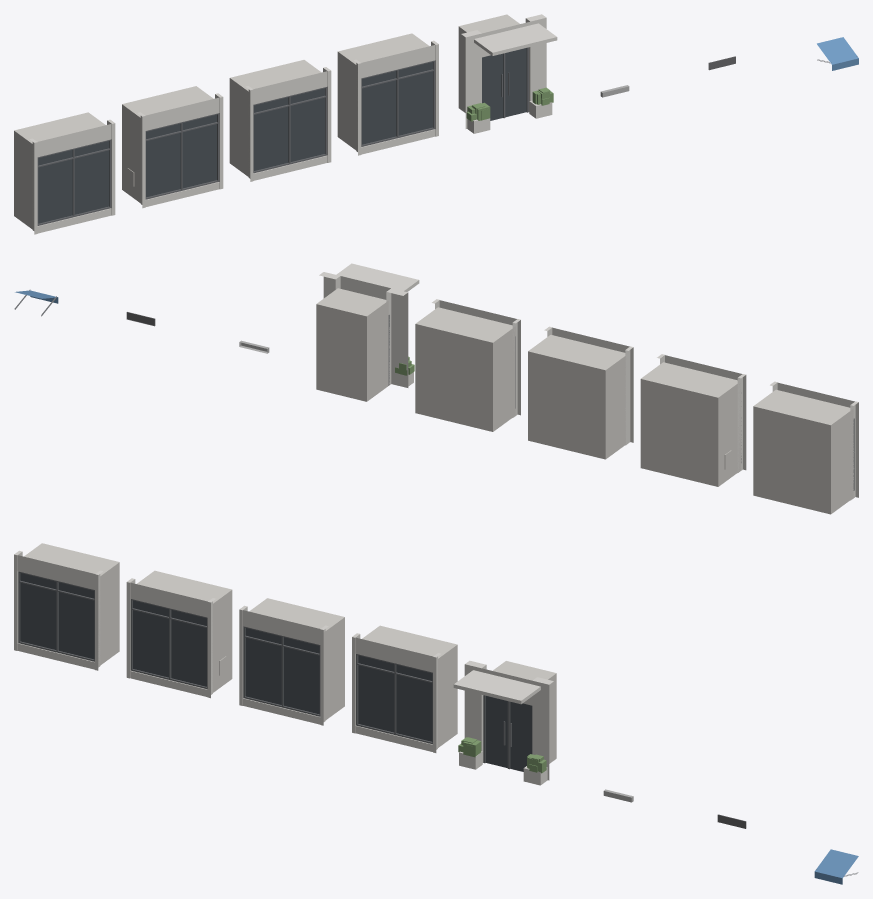
File: terreo-lojas-orla.glb
The picture shows the model from 3 angles, top to bottom: view 1: azimuth 30°, elevation 25°; view 2: azimuth 150°, elevation 25°; view 3: azimuth 330°, elevation 25°; orthographic projection. The views are drawn at different scales.
Parts seen in each view (by area): view 1: dn_loja_vao_2, dn_loja_vao_0, dn_loja_vao_1, dn_loja_vao_3, dn_loja_portaria, dn_loja_toldo; view 2: dn_loja_vao_1, dn_loja_vao_2, dn_loja_vao_0, dn_loja_vao_3, dn_loja_portaria; view 3: dn_loja_vao_1, dn_loja_vao_0, dn_loja_vao_2, dn_loja_vao_3, dn_loja_portaria, dn_loja_toldo.
Boxes of the visible parts, box(x1,y1,x2,y2) form: dn_loja_vao_2: box(229, 60, 331, 181); dn_loja_vao_0: box(14, 112, 115, 234); dn_loja_vao_1: box(122, 86, 223, 208); dn_loja_vao_3: box(337, 33, 438, 155); dn_loja_portaria: box(458, 14, 557, 133); dn_loja_toldo: box(817, 37, 858, 70); dn_loja_vao_1: box(640, 354, 746, 486); dn_loja_vao_2: box(528, 326, 633, 459); dn_loja_vao_0: box(753, 381, 858, 514); dn_loja_vao_3: box(415, 299, 520, 431); dn_loja_portaria: box(316, 263, 419, 401); dn_loja_vao_1: box(126, 570, 232, 698); dn_loja_vao_0: box(14, 543, 119, 670); dn_loja_vao_2: box(239, 598, 344, 725); dn_loja_vao_3: box(352, 625, 457, 752); dn_loja_portaria: box(453, 660, 556, 785); dn_loja_toldo: box(814, 849, 858, 884).
Size of the model in its own units: 30 by 3.85 by 2.7.
